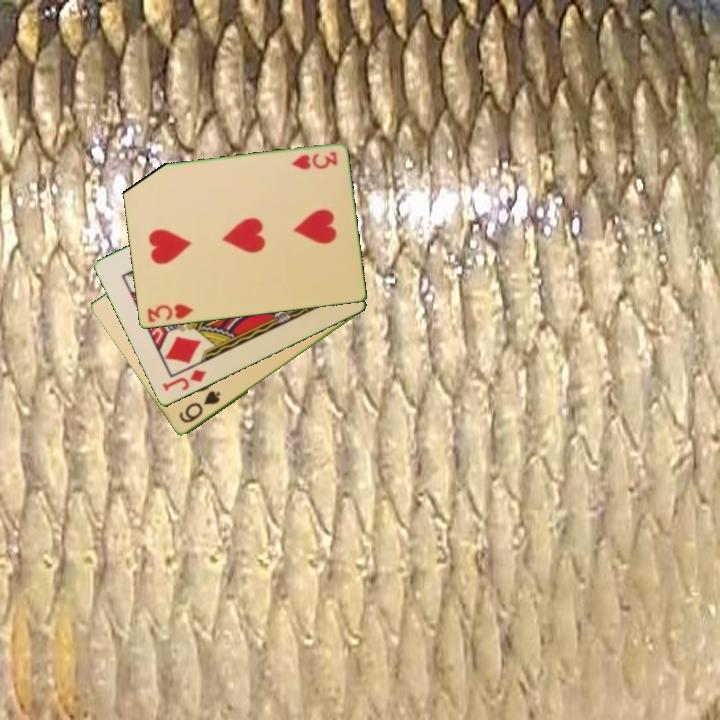3h: (287, 148, 340, 173), (143, 301, 195, 326)
6s: (175, 387, 223, 426)
Jd: (159, 366, 209, 395)
